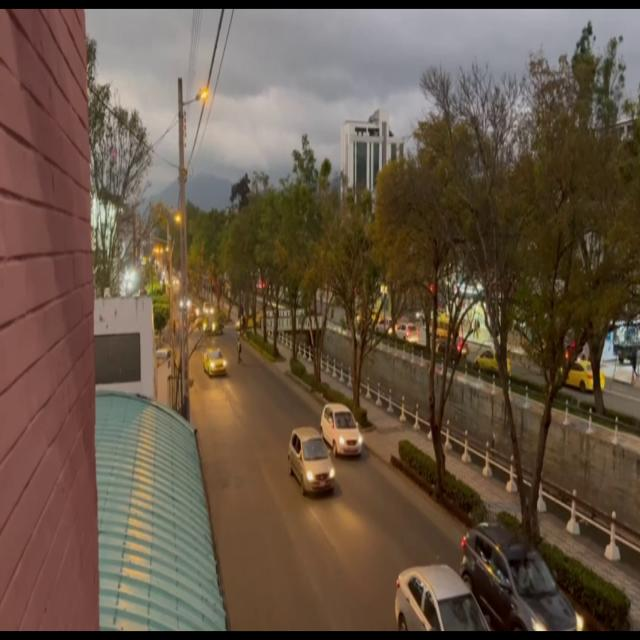SED: (290, 428, 334, 493), (205, 350, 227, 376)
SUV: (467, 521, 583, 633), (324, 405, 364, 457)
